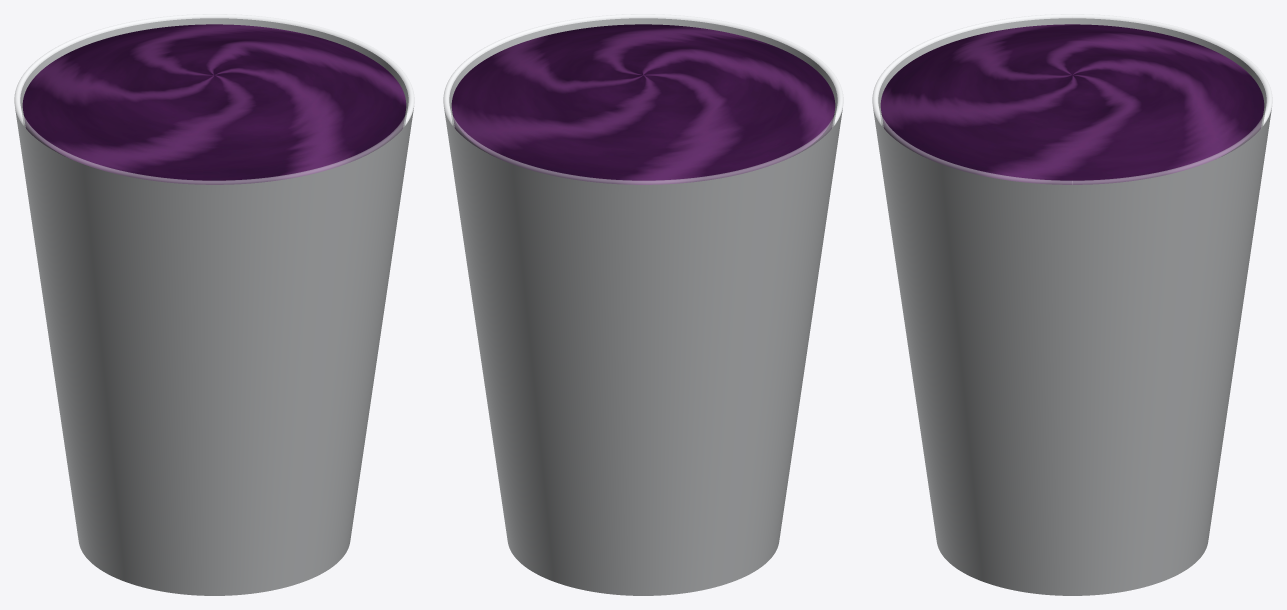
The model's file is acai-700.glb.
3 views of the same model, side by side, from view 1: azimuth 30°, elevation 25°; view 2: azimuth 150°, elevation 25°; view 3: azimuth 270°, elevation 25° (orthographic).
Parts seen in each view (by area): view 1: acai-700_1, acai-700_0; view 2: acai-700_1, acai-700_0; view 3: acai-700_1, acai-700_0.
Boxes of the visible parts, box(x1,y1,x2,y2) form: acai-700_1: box(14, 14, 414, 595); acai-700_0: box(22, 24, 406, 184); acai-700_1: box(443, 14, 843, 595); acai-700_0: box(451, 24, 835, 184); acai-700_1: box(872, 14, 1272, 595); acai-700_0: box(880, 24, 1264, 184).
Bounding box in the file's own units: 0.106 × 0.1353 × 0.106.
4 materials, 2 textured.
